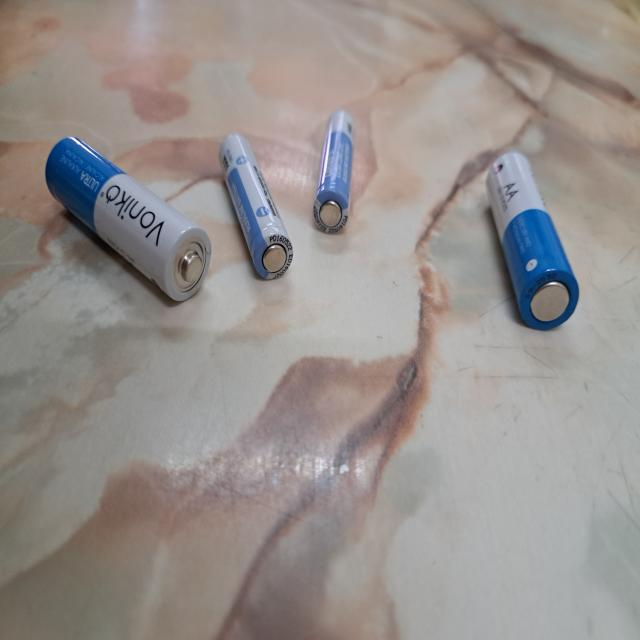battery: (46, 135, 212, 305), (485, 152, 579, 332), (220, 133, 294, 283), (312, 111, 356, 235)
